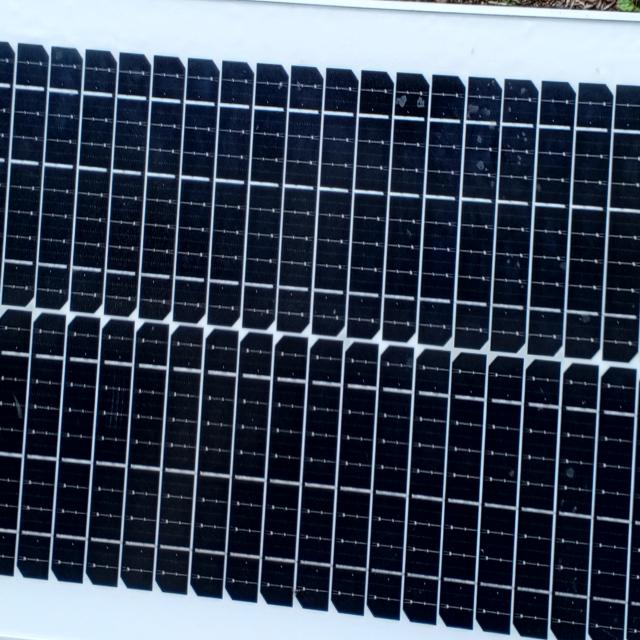Clean: (1, 10, 640, 636)
